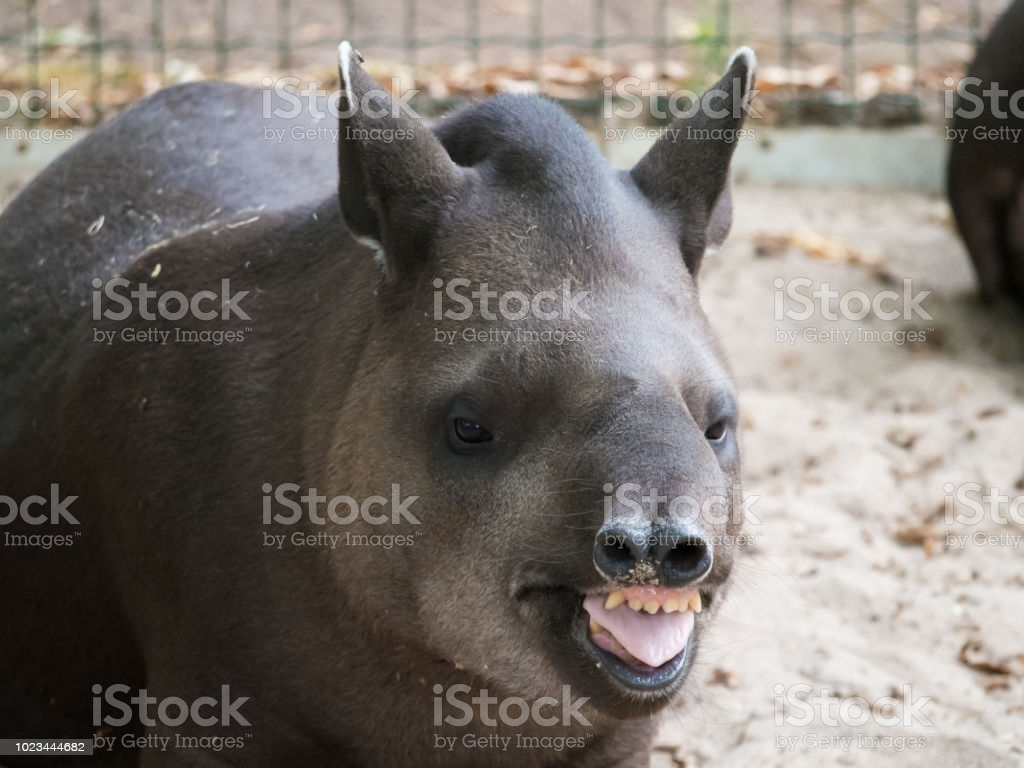Anta: (23, 64, 793, 735)
